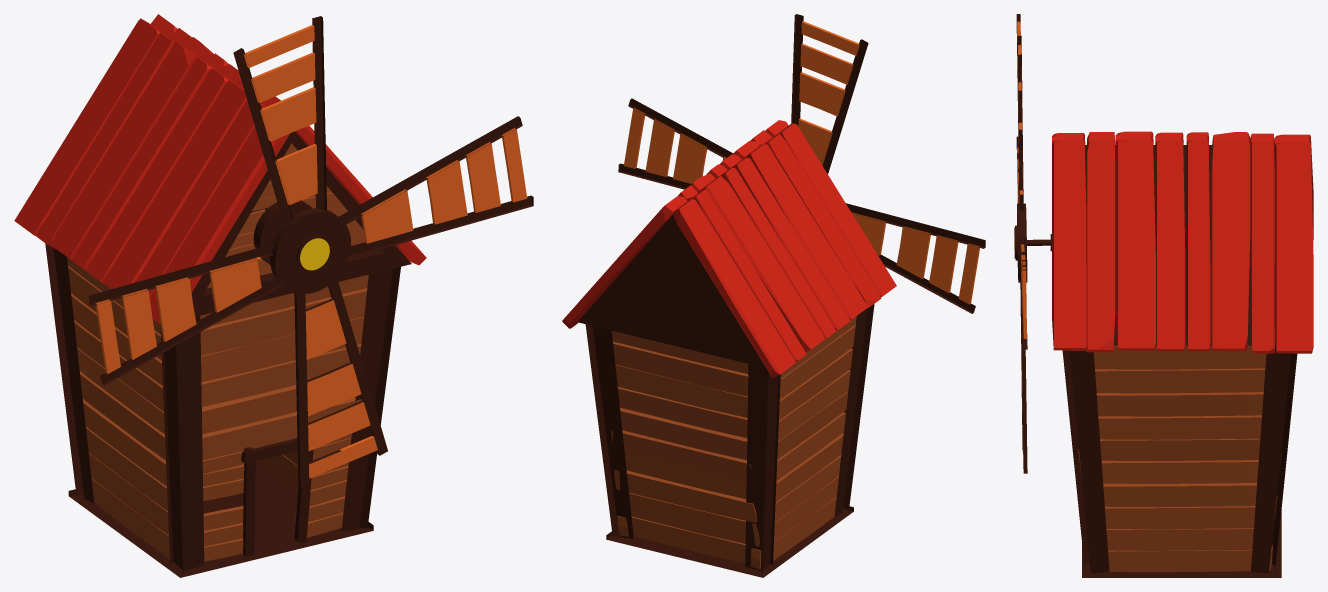
File: windmill.fbx
The picture shows the model from 3 angles, left to right: view 1: azimuth 30°, elevation 25°; view 2: azimuth 150°, elevation 25°; view 3: azimuth 270°, elevation 25°; orthographic projection. The views are drawn at different scales.
Parts seen in each view (by area): view 1: Base; view 2: Base; view 3: Base.
Boxes of the visible parts, bbox=[...] form: Base: bbox=[14, 14, 533, 577]; Base: bbox=[562, 14, 985, 577]; Base: bbox=[1014, 14, 1313, 577].
Bounding box in the file's own units: 182 × 218 × 118.
